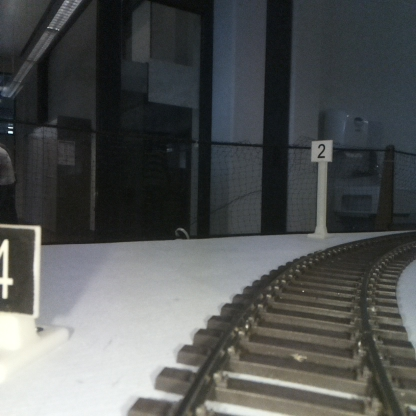black-stop-4: (0, 228, 34, 344)
white-info-2: (311, 139, 332, 237)
